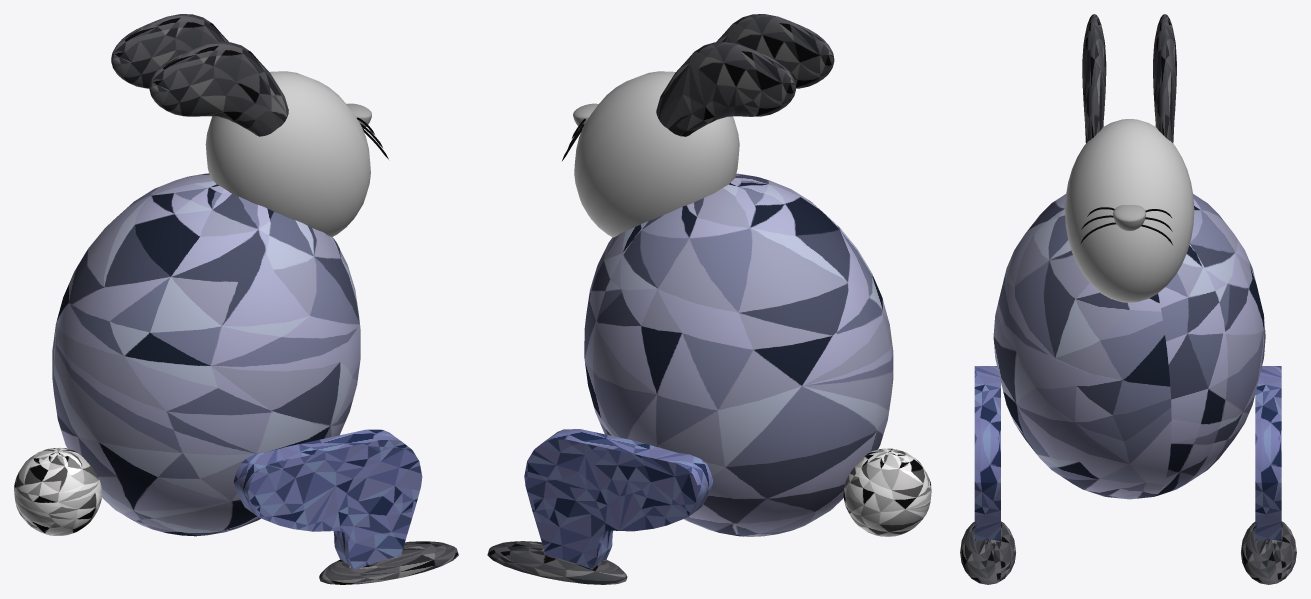
Rendered from Kaninus.fbx.
3 renders of one model, left to right at view 1: azimuth 30°, elevation 25°; view 2: azimuth 150°, elevation 25°; view 3: azimuth 270°, elevation 25°, orthographic. The views are drawn at different scales.
Visible parts, largest first — view 1: pSphere1, polySurface3, pSphere3, pSphere4, pSphere2, pSphere12, polySurface4; view 2: pSphere1, polySurface20, pSphere3, pSphere12, pSphere2, pSphere4, polySurface19; view 3: pSphere1, pSphere3, polySurface3, polySurface20, pSphere4, pSphere12, polySurface19, polySurface4, pSphere9.
Part boxes in pixels (x1,y1,x2,y2): pSphere1: (52,173,360,536); polySurface3: (233,429,422,570); pSphere3: (205,71,370,236); pSphere4: (149,42,288,136); pSphere2: (14,447,101,535); pSphere12: (111,14,228,88); polySurface4: (319,541,458,584); pSphere1: (584,173,893,536); polySurface20: (524,429,713,569); pSphere3: (574,71,739,237); pSphere12: (656,42,795,136); pSphere2: (843,448,931,536); pSphere4: (716,14,834,88); polySurface19: (487,541,627,584); pSphere1: (993,194,1265,499); pSphere3: (1065,119,1194,302); polySurface3: (974,366,1000,540); polySurface20: (1255,366,1281,541); pSphere4: (1082,14,1106,143); pSphere12: (1153,14,1176,143); polySurface19: (1241,521,1296,584); polySurface4: (960,521,1015,584); pSphere9: (1113,205,1145,231).
Bounding box in the file's own units: 2.33 × 3.15 × 2.03.
